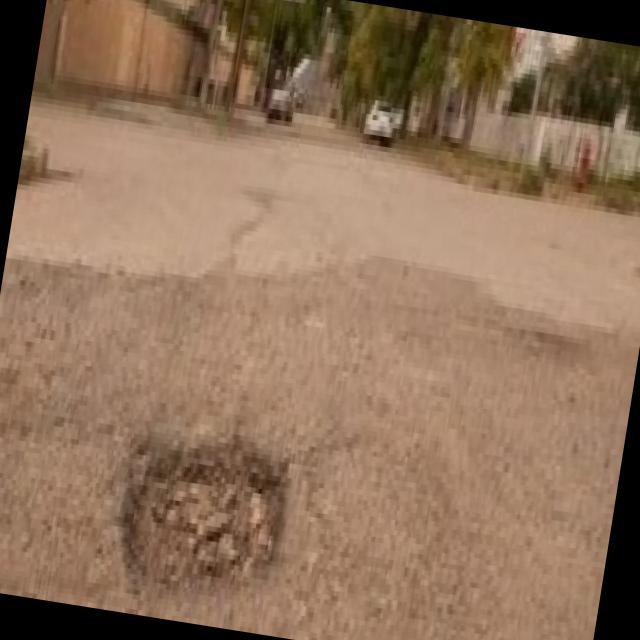Pothole: (104, 420, 292, 626)
